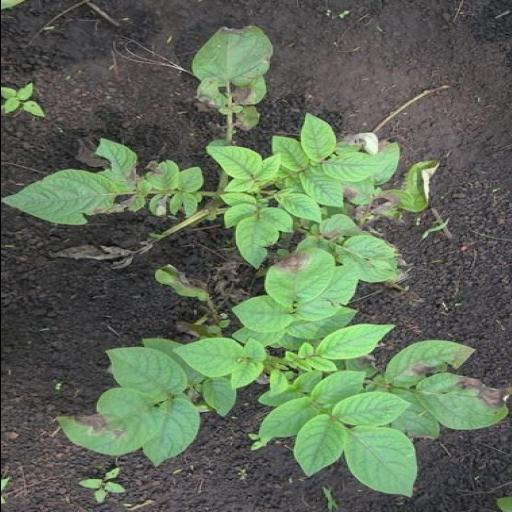disease_tomato: (52, 384, 164, 456), (408, 370, 510, 432), (261, 245, 339, 309)
